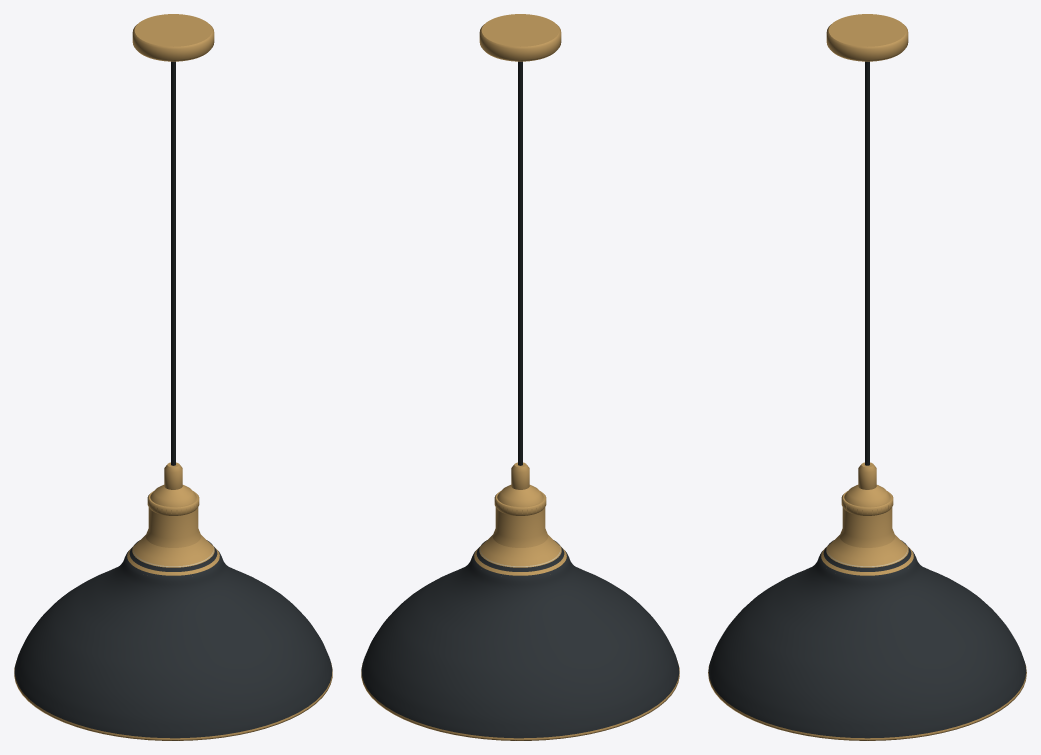
File: lustre_pendente.glb
3 renders of one model, left to right at view 1: azimuth 30°, elevation 25°; view 2: azimuth 150°, elevation 25°; view 3: azimuth 270°, elevation 25°, orthographic.
Visible parts, largest first — view 1: Cupula aberta grafite com interior claro, Canopla de teto em latao, Soquete decorativo em latao, Colar conico de latao, Cabo preto de suspensao, Aro inferior de latao, Anel recartilhado do soquete; view 2: Cupula aberta grafite com interior claro, Canopla de teto em latao, Soquete decorativo em latao, Colar conico de latao, Cabo preto de suspensao, Aro inferior de latao, Anel recartilhado do soquete; view 3: Cupula aberta grafite com interior claro, Canopla de teto em latao, Soquete decorativo em latao, Colar conico de latao, Cabo preto de suspensao, Aro inferior de latao, Anel recartilhado do soquete.
Boxes of the visible parts, x1,y1,x2,y2 form: Cupula aberta grafite com interior claro: [14, 540, 332, 738]; Canopla de teto em latao: [132, 14, 214, 61]; Soquete decorativo em latao: [145, 485, 201, 547]; Colar conico de latao: [127, 535, 219, 575]; Cabo preto de suspensao: [171, 61, 175, 465]; Aro inferior de latao: [14, 661, 332, 740]; Anel recartilhado do soquete: [147, 491, 199, 515]; Cupula aberta grafite com interior claro: [361, 540, 679, 738]; Canopla de teto em latao: [479, 14, 561, 61]; Soquete decorativo em latao: [492, 485, 548, 547]; Colar conico de latao: [474, 535, 566, 575]; Cabo preto de suspensao: [518, 61, 522, 465]; Aro inferior de latao: [361, 661, 679, 740]; Anel recartilhado do soquete: [494, 491, 546, 515]; Cupula aberta grafite com interior claro: [708, 540, 1026, 738]; Canopla de teto em latao: [826, 14, 908, 61]; Soquete decorativo em latao: [839, 485, 895, 547]; Colar conico de latao: [821, 535, 913, 575]; Cabo preto de suspensao: [865, 61, 869, 465]; Aro inferior de latao: [708, 665, 1026, 740]; Anel recartilhado do soquete: [841, 491, 893, 515].
Size of the model in its own units: 0.5167 by 1.22 by 0.5167.
